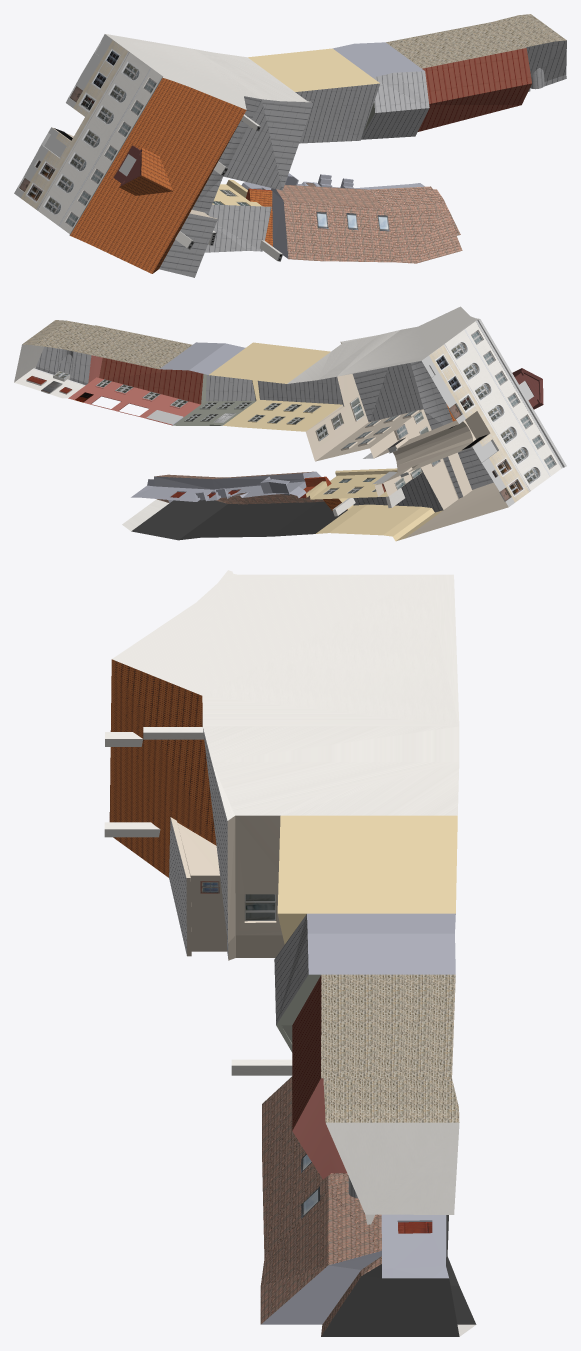
The model's file is Vene_6_1.obj.
3 views of the same model, one above another, from view 1: azimuth 30°, elevation 25°; view 2: azimuth 150°, elevation 25°; view 3: azimuth 270°, elevation 25° (orthographic). The views are drawn at different scales.
Visible parts, largest first — view 1: Vene_6_1; view 2: Vene_6_1; view 3: Vene_6_1.
Part boxes in pixels (box(x1,y1,x2,y2)): Vene_6_1: box(14, 14, 566, 277); Vene_6_1: box(14, 306, 566, 541); Vene_6_1: box(104, 570, 476, 1336).
Size of the model in its own units: 66.88 by 30.66 by 21.65.
